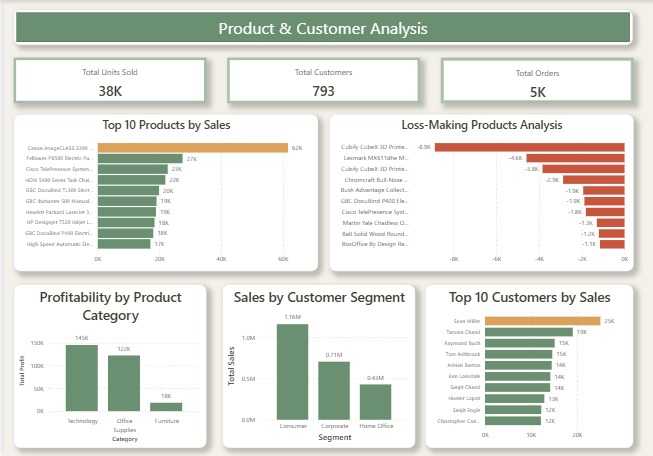

This screenshot's page, from the dashboard's own definition file:
{"tool":"powerbi","page":{"name":"Product & Customer Analysis","canvas":[1280,900],"ordinal":1},"visuals":[{"type":"barChart","title":"Top 10 Products by Sales","fields":{"Category":["Superstore.Product Name"],"Y":["Superstore.Total Sales"]},"box":[20,225,600,310],"z":0},{"type":"clusteredColumnChart","title":"Profitability by Product Category","fields":{"Category":["Superstore.Category"],"Y":["Superstore.Total Profit"]},"box":[20,560,380,322.5],"z":1000},{"type":"clusteredColumnChart","title":"Sales by Customer Segment","fields":{"Category":["Superstore.Segment"],"Y":["Superstore.Total Sales"]},"box":[430,560,380,322.5],"z":2000},{"type":"cardVisual","title":"Total Units Sold","fields":{"Data":["Superstore.Total Quantity"]},"box":[20,112.5,380,90],"z":3000},{"type":"clusteredBarChart","title":"Top 10 Customers by Sales","fields":{"Category":["Superstore.Customer Name"],"Y":["Superstore.Total Sales"]},"box":[830,560,410,322.5],"z":4000},{"type":"shape","title":"Product & Customer Analysis","box":[20,20,1220,70],"z":7000},{"type":"clusteredBarChart","title":"Loss-Making Products Analysis","fields":{"Category":["Superstore.Product Name"],"Y":["Superstore.Total Profit"]},"box":[640,225,600,310],"z":9000},{"type":"cardVisual","fields":{"Data":["Superstore.Total Customers"]},"box":[440,112.5,380,90],"z":10000},{"type":"cardVisual","fields":{"Data":["Superstore.Total Orders"]},"box":[860,113.3,380,90],"z":11000}]}

Visuals, with their boxes in screenshot pixels (x1, y1, x2, y2), scaled from the page's 1280x900 canvas onto the 653x456 screenshot:
"Top 10 Products by Sales" barChart: x1=10 y1=114 x2=316 y2=271
"Profitability by Product Category" clusteredColumnChart: x1=10 y1=284 x2=204 y2=447
"Sales by Customer Segment" clusteredColumnChart: x1=219 y1=284 x2=413 y2=447
"Total Units Sold" cardVisual: x1=10 y1=57 x2=204 y2=103
"Top 10 Customers by Sales" clusteredBarChart: x1=423 y1=284 x2=633 y2=447
"Product & Customer Analysis" shape: x1=10 y1=10 x2=633 y2=46
"Loss-Making Products Analysis" clusteredBarChart: x1=326 y1=114 x2=633 y2=271
cardVisual - Superstore.Total Customers: x1=224 y1=57 x2=418 y2=103
cardVisual - Superstore.Total Orders: x1=439 y1=57 x2=633 y2=103
